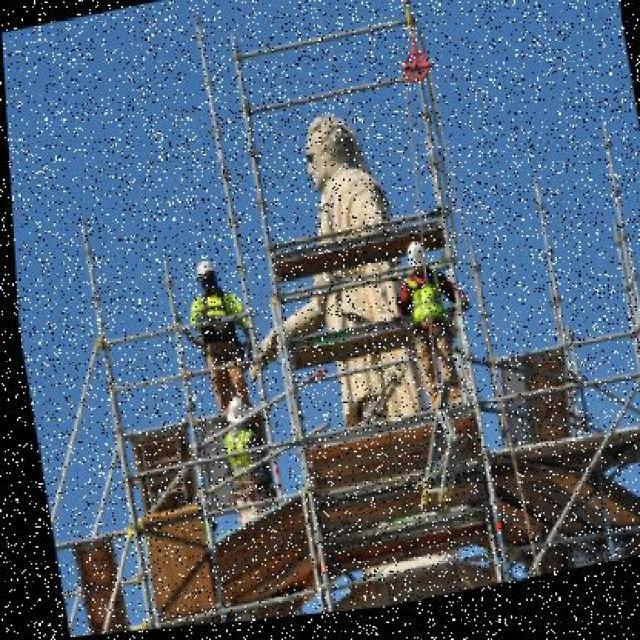helmet: (394, 241, 426, 281), (185, 257, 215, 287)
vest: (212, 425, 254, 483), (182, 286, 239, 328), (405, 280, 446, 338)
